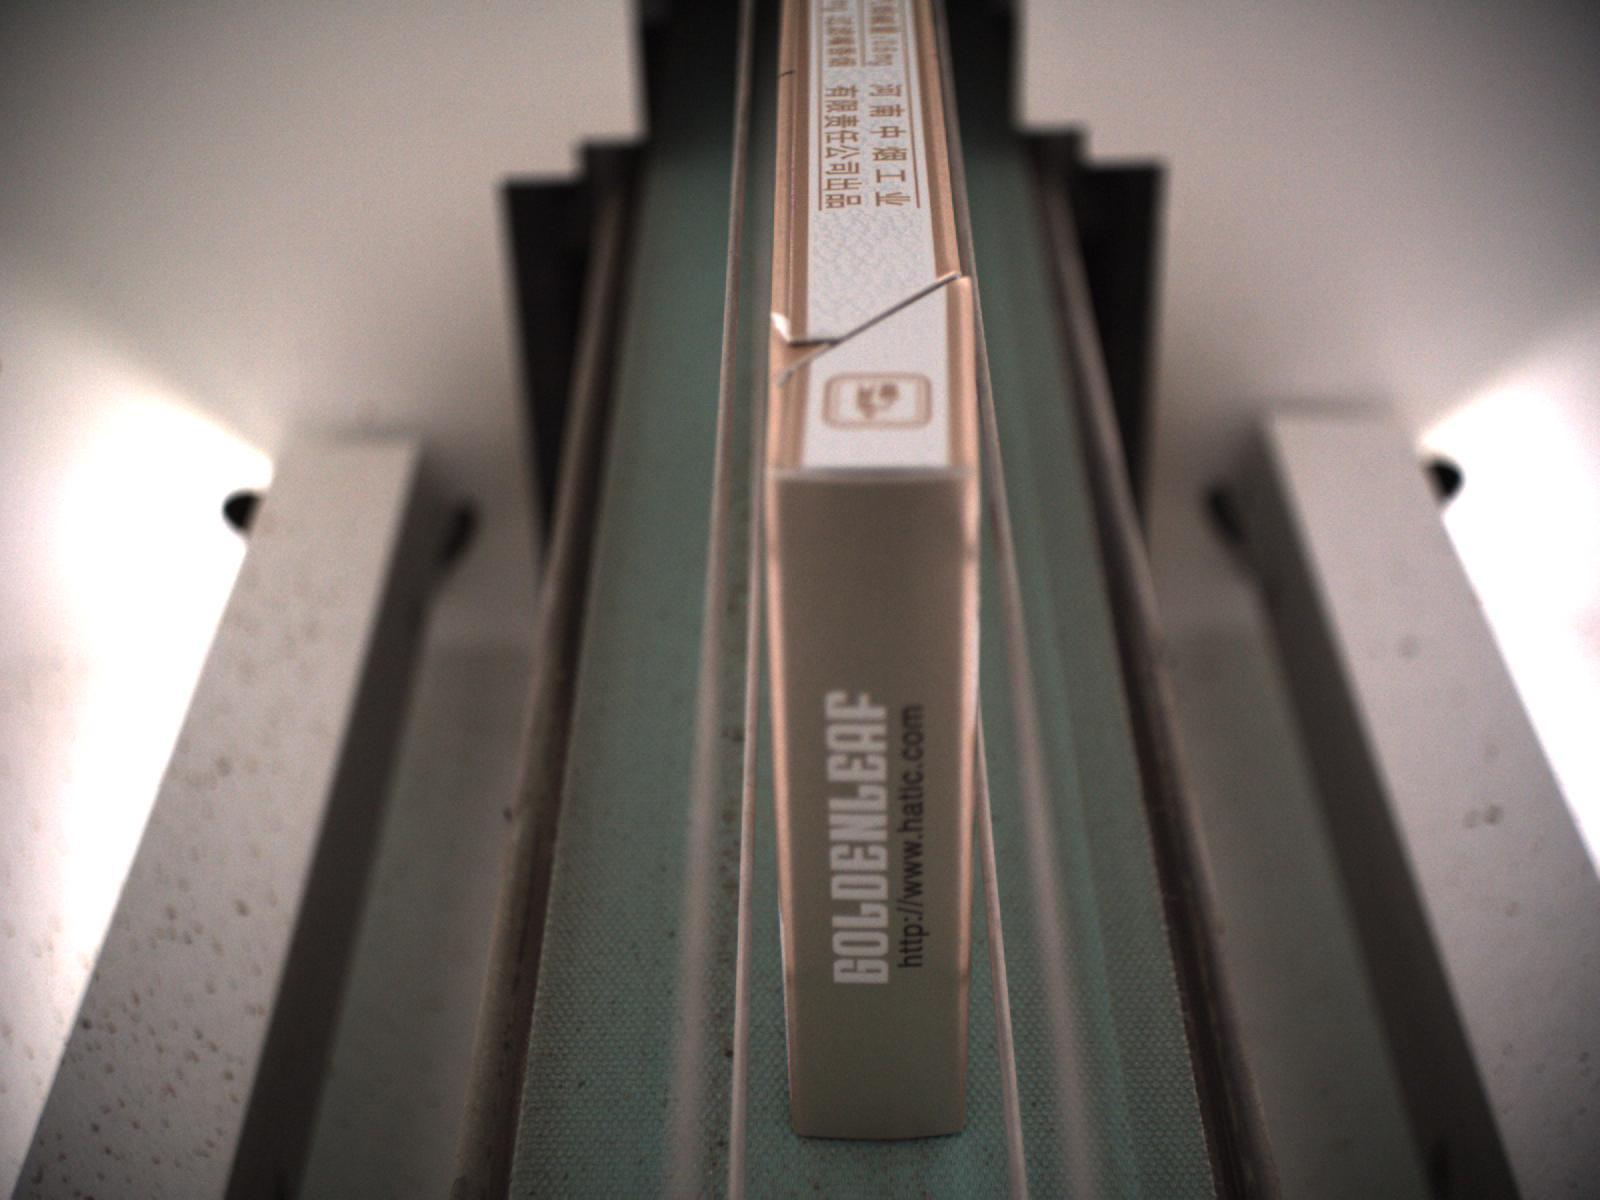outerFold_upper_2: (769, 305, 845, 384)
